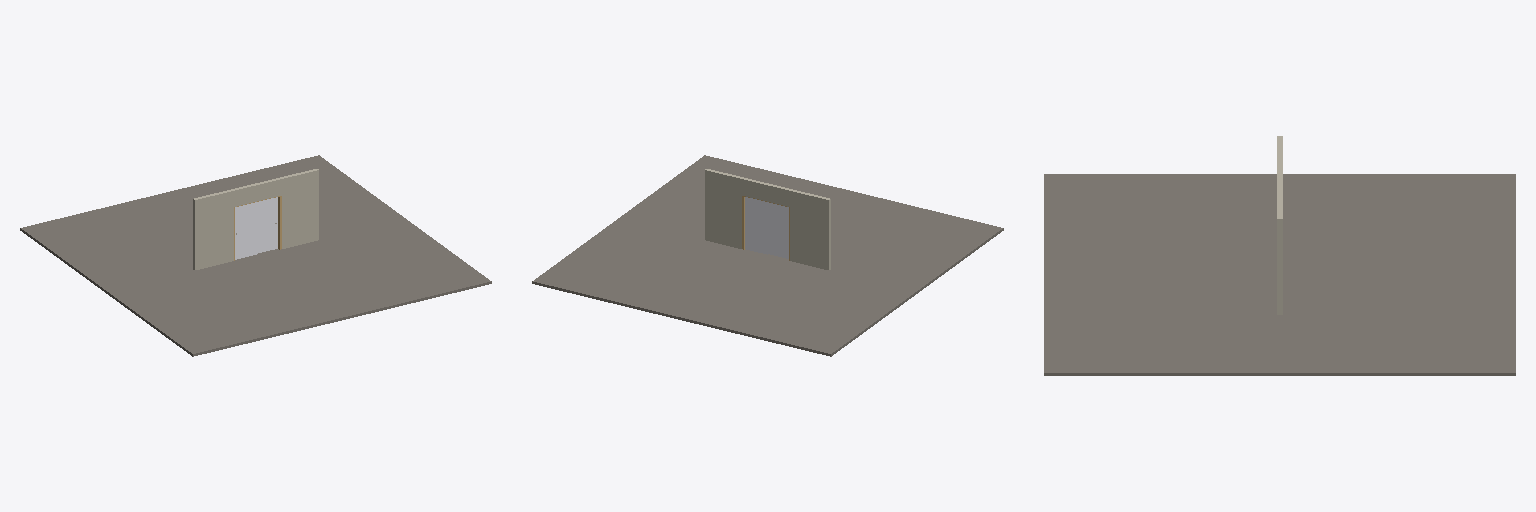
URDF robot description (db0550_sliding_bypass_minimal):
<?xml version="1.0" ?>
<robot xmlns:doorbench="https://github.com/adamraudonis/DoorBench/schema/urdf-ext" name="db0550_sliding_bypass_minimal">
  <link name="world_env">
    <visual name="floor_vis">
      <origin xyz="0 0 -0.05" rpy="0 0 0"/>
      <geometry>
        <box size="12 12 0.1"/>
      </geometry>
      <material name="mat_floor"/>
    </visual>
    <collision name="floor_col">
      <origin xyz="0 0 -0.05" rpy="0 0 0"/>
      <geometry>
        <box size="12 12 0.1"/>
      </geometry>
    </collision>
    <visual name="wall_left_vis">
      <origin xyz="-1.7115 0 1.35" rpy="0 0 0"/>
      <geometry>
        <box size="1.577 0.145 2.7"/>
      </geometry>
      <material name="mat_wall"/>
    </visual>
    <collision name="wall_left_col">
      <origin xyz="-1.7115 0 1.35" rpy="0 0 0"/>
      <geometry>
        <box size="1.577 0.145 2.7"/>
      </geometry>
    </collision>
    <visual name="wall_right_vis">
      <origin xyz="1.7415 0 1.35" rpy="0 0 0"/>
      <geometry>
        <box size="1.517 0.145 2.7"/>
      </geometry>
      <material name="mat_wall"/>
    </visual>
    <collision name="wall_right_col">
      <origin xyz="1.7415 0 1.35" rpy="0 0 0"/>
      <geometry>
        <box size="1.517 0.145 2.7"/>
      </geometry>
    </collision>
    <visual name="wall_header_vis">
      <origin xyz="0.03 0 2.3855" rpy="0 0 0"/>
      <geometry>
        <box size="1.906 0.145 0.629"/>
      </geometry>
      <material name="mat_wall"/>
    </visual>
    <collision name="wall_header_col">
      <origin xyz="0.03 0 2.3855" rpy="0 0 0"/>
      <geometry>
        <box size="1.906 0.145 0.629"/>
      </geometry>
    </collision>
    <visual name="jamb_l_vis">
      <origin xyz="-0.9135 0 1.026" rpy="0 0 0"/>
      <geometry>
        <box size="0.019 0.145 2.052"/>
      </geometry>
      <material name="mat_frame"/>
    </visual>
    <collision name="jamb_l_col">
      <origin xyz="-0.9135 0 1.026" rpy="0 0 0"/>
      <geometry>
        <box size="0.019 0.145 2.052"/>
      </geometry>
    </collision>
    <visual name="jamb_head_vis">
      <origin xyz="0 0 2.0615" rpy="0 0 0"/>
      <geometry>
        <box size="1.846 0.145 0.019"/>
      </geometry>
      <material name="mat_frame"/>
    </visual>
    <collision name="jamb_head_col">
      <origin xyz="0 0 2.0615" rpy="0 0 0"/>
      <geometry>
        <box size="1.846 0.145 0.019"/>
      </geometry>
    </collision>
    <visual name="jamb_latch_0_vis">
      <origin xyz="0.9435 0 1.026" rpy="0 0 0"/>
      <geometry>
        <box size="0.079 0.145 2.052"/>
      </geometry>
      <material name="mat_frame"/>
    </visual>
    <collision name="jamb_latch_0_col">
      <origin xyz="0.9435 0 1.026" rpy="0 0 0"/>
      <geometry>
        <box size="0.079 0.145 2.052"/>
      </geometry>
    </collision>
  </link>
  <link name="leaf_0">
    <inertial>
      <origin xyz="-0.00004 0 1.027997" rpy="0 0 0"/>
      <mass value="27.88372"/>
      <inertia ixx="9.593424227" ixy="-0.000003888" ixz="-0.000031106" iyy="11.534700613" iyz="-0.000000297" izz="1.941443744"/>
    </inertial>
    <visual name="leaf_0_glass_vis">
      <origin xyz="0 0 1.028" rpy="0 0 0"/>
      <geometry>
        <box size="0.914 0.006 2.032"/>
      </geometry>
      <material name="mat_glass_leaf"/>
    </visual>
    <collision name="leaf_0_glass_col">
      <origin xyz="0 0 1.028" rpy="0 0 0"/>
      <geometry>
        <box size="0.914 0.006 2.032"/>
      </geometry>
    </collision>
    <visual name="leaf_0_pull_n_vis">
      <origin xyz="-0.367 -0.0035 1" rpy="0 0 0"/>
      <geometry>
        <box size="0.055 0.001 0.055"/>
      </geometry>
      <material name="mat_op_nickel_satin"/>
    </visual>
  </link>
  <link name="leaf_1">
    <inertial>
      <origin xyz="0.00004 0 1.027997" rpy="0 0 0"/>
      <mass value="27.88372"/>
      <inertia ixx="9.593424227" ixy="0.000003888" ixz="0.000031106" iyy="11.534700613" iyz="-0.000000297" izz="1.941443744"/>
    </inertial>
    <visual name="leaf_1_glass_vis">
      <origin xyz="0 0 1.028" rpy="0 0 0"/>
      <geometry>
        <box size="0.914 0.006 2.032"/>
      </geometry>
      <material name="mat_glass_leaf"/>
    </visual>
    <collision name="leaf_1_glass_col">
      <origin xyz="0 0 1.028" rpy="0 0 0"/>
      <geometry>
        <box size="0.914 0.006 2.032"/>
      </geometry>
    </collision>
    <visual name="leaf_1_pull_n_vis">
      <origin xyz="0.367 -0.0035 1" rpy="0 0 0"/>
      <geometry>
        <box size="0.055 0.001 0.055"/>
      </geometry>
      <material name="mat_op_nickel_satin"/>
    </visual>
  </link>
  <joint name="leaf_0_slide" type="prismatic">
    <origin xyz="-0.444 -0.028 0" rpy="0 0 0"/>
    <parent link="world_env"/>
    <child link="leaf_0"/>
    <axis xyz="1 0 0"/>
    <limit lower="0" upper="0.868" effort="5000" velocity="10"/>
    <dynamics damping="3.395436" friction="10.673951"/>
  </joint>
  <joint name="leaf_1_slide" type="prismatic">
    <origin xyz="0.444 0.028 0" rpy="0 0 0"/>
    <parent link="world_env"/>
    <child link="leaf_1"/>
    <axis xyz="-1 0 0"/>
    <limit lower="0" upper="0.868" effort="5000" velocity="10"/>
    <dynamics damping="3.395436" friction="10.673951"/>
  </joint>
  <material name="mat_floor">
    <color rgba="0.55 0.53 0.5 1"/>
  </material>
  <material name="mat_frame">
    <color rgba="0.82 0.7 0.5 1"/>
  </material>
  <material name="mat_glass_leaf">
    <color rgba="0.95 0.95 0.97 1"/>
  </material>
  <material name="mat_op_nickel_satin">
    <color rgba="0.72 0.7 0.66 1"/>
  </material>
  <material name="mat_wall">
    <color rgba="0.78 0.76 0.7 1"/>
  </material>
</robot>

--- Render facts (derived) ---
The picture shows the robot from 3 angles, left to right: view 1: azimuth 30°, elevation 25°; view 2: azimuth 150°, elevation 25°; view 3: azimuth 270°, elevation 25°; orthographic projection.
Robot: db0550_sliding_bypass_minimal — 3 links, 2 joints (2 prismatic); root link world_env; default pose: every joint at zero.
Links seen in each view (by area): view 1: world_env, leaf_0, leaf_1; view 2: world_env, leaf_1, leaf_0; view 3: world_env.
Boxes of the visible links, box(x1,y1,x2,y2) form: world_env: box(20, 155, 491, 356); leaf_0: box(235, 202, 256, 259); leaf_1: box(257, 197, 277, 253); world_env: box(532, 155, 1003, 356); leaf_1: box(745, 197, 767, 254); leaf_0: box(768, 202, 788, 258); world_env: box(1044, 136, 1515, 375).
Bounding box of the posed robot: 12 × 12 × 2.8 m (x, y, z).
Geometry: primitives only (box / cylinder / sphere), no mesh files.
